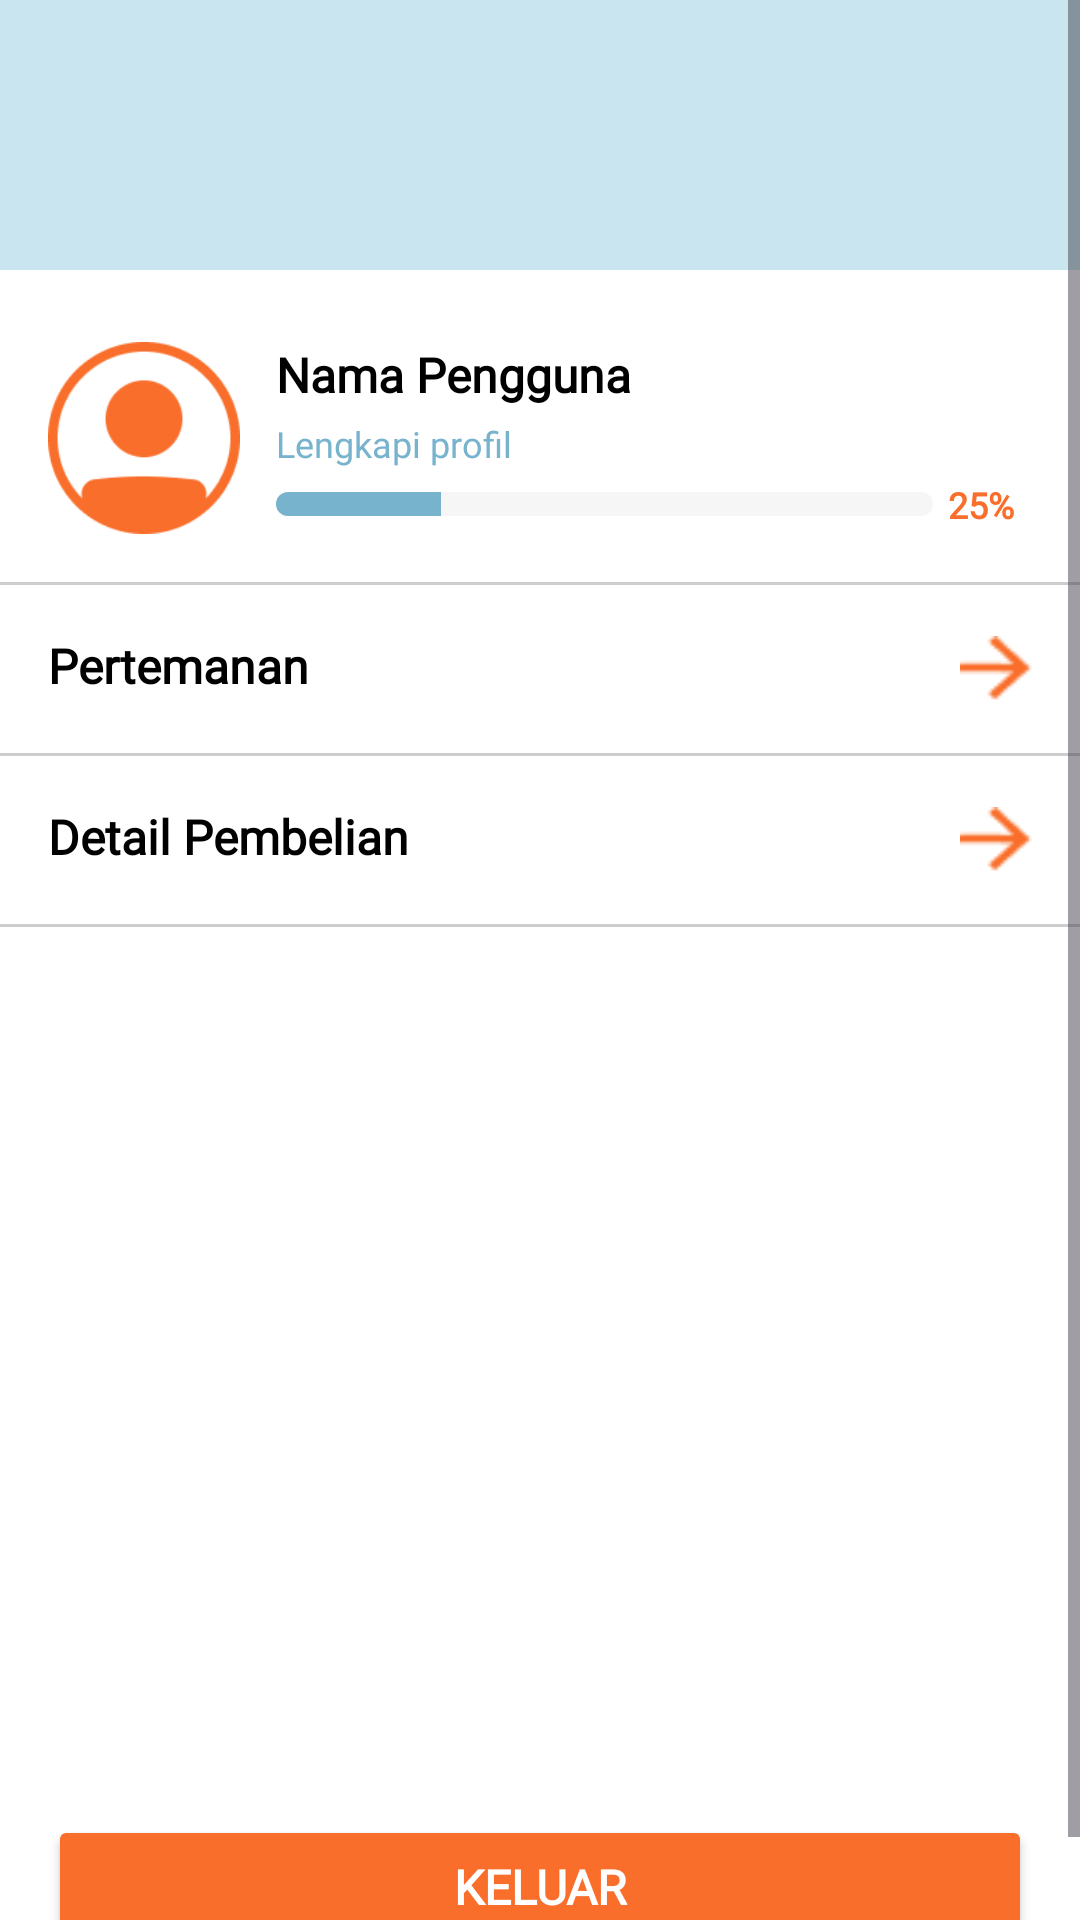

Icon bounding boxes for this 1080x1920 phone screenshot, format (x1, y1, x2, y2):
Arrow Right: (960, 636, 1031, 700), (960, 807, 1032, 871)
Profile Image: (48, 342, 240, 534)
